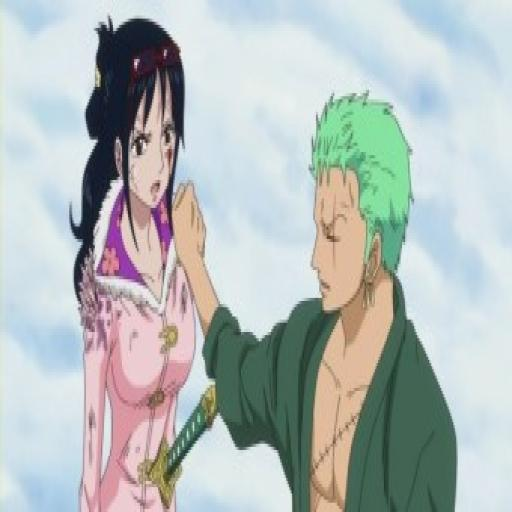Zoro: (306, 84, 423, 312)
